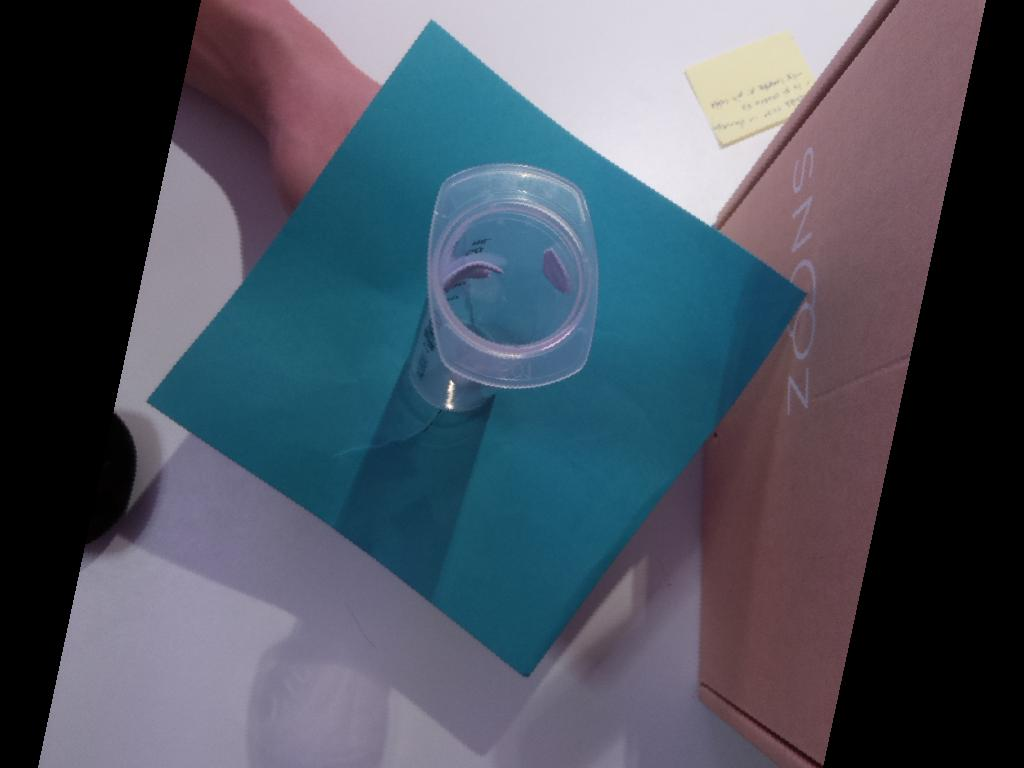dirty: (427, 163, 602, 390)
